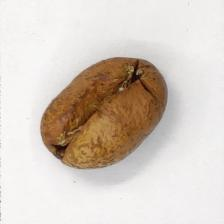NG: (54, 95, 132, 171), (98, 56, 158, 121)
